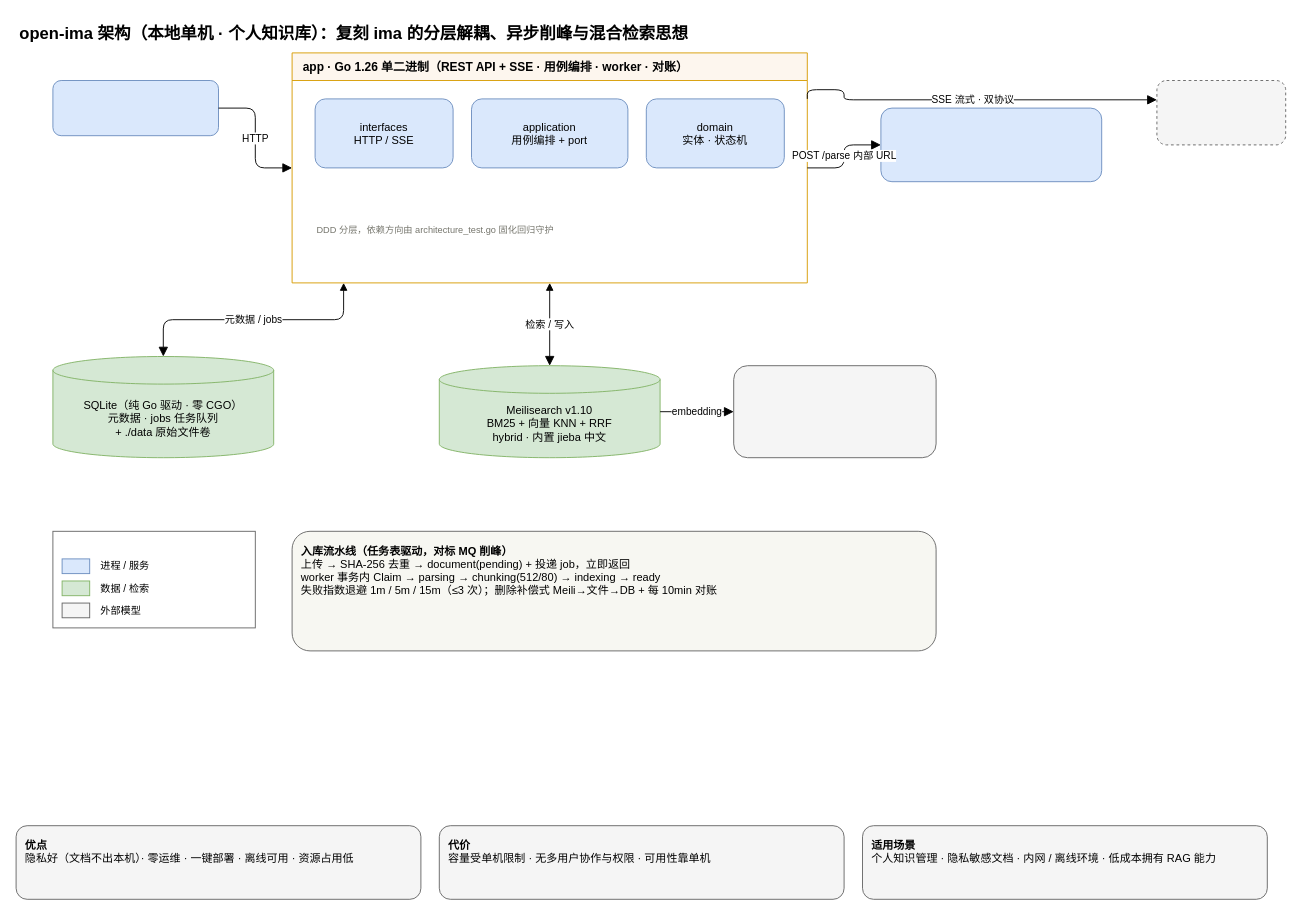
The diagram is 1302 pixels wide and 915 high, and some of its shapes have lost their labels. Each missing label, with the box of its shape:
LLM API openai / anthropic: (1156, 80, 1286, 145)
Ollama · bge-m3 本地 Embedding · 1024 维: (733, 365, 936, 458)
parser · Python FastAPI 注册表式解析 · 不触网: (880, 107, 1102, 182)
图例: (52, 530, 255, 628)
浏览器 SPA React（Go embed 托管）: (52, 80, 218, 136)
